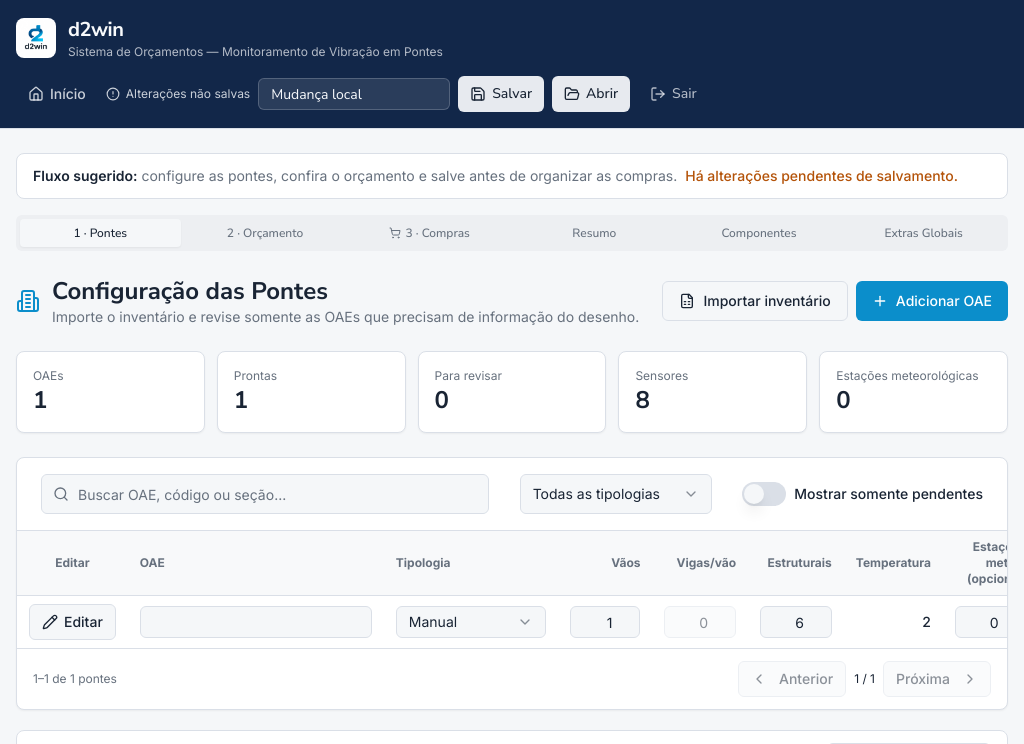
Test case: navegação segura do orçamento › impede a saída acidental e confirma a exclusão de orçamento salvo
Earlier steps of the test are not shown.
Later steps or results of the test are not shown.
Click the button "Sair". click: {"x": 673, "y": 94}
box: [638,76,709,112]
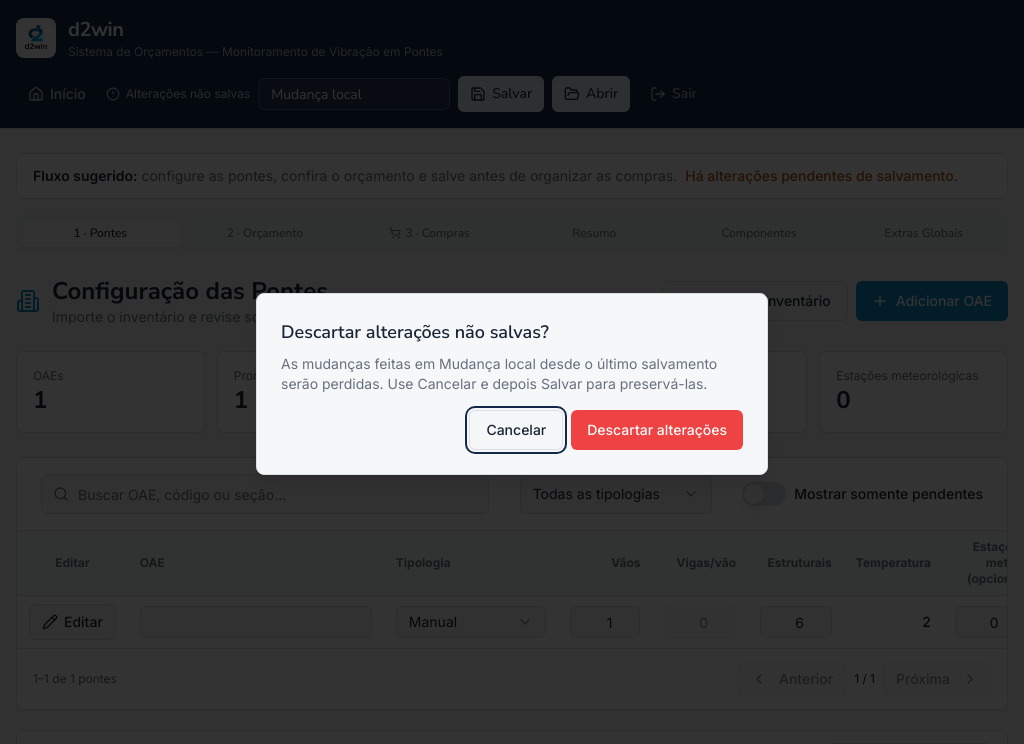
Click the button "Cancelar". click: {"x": 516, "y": 430}
box: [469,410,563,450]
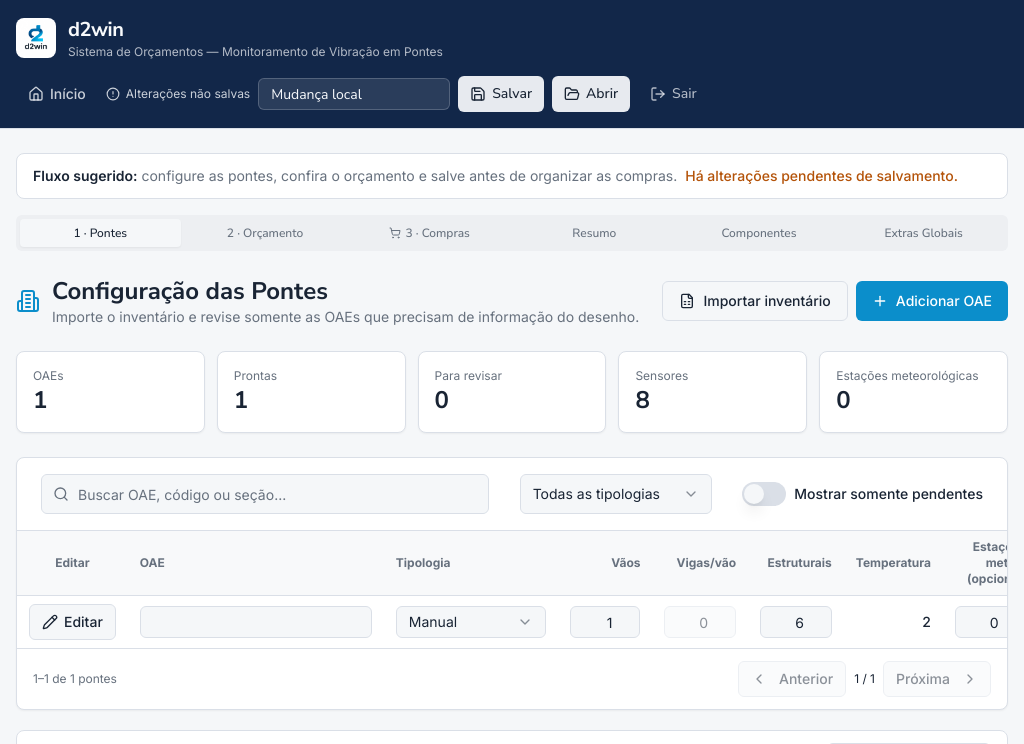
Click the button "Início". click: {"x": 57, "y": 94}
box: [16,76,98,112]
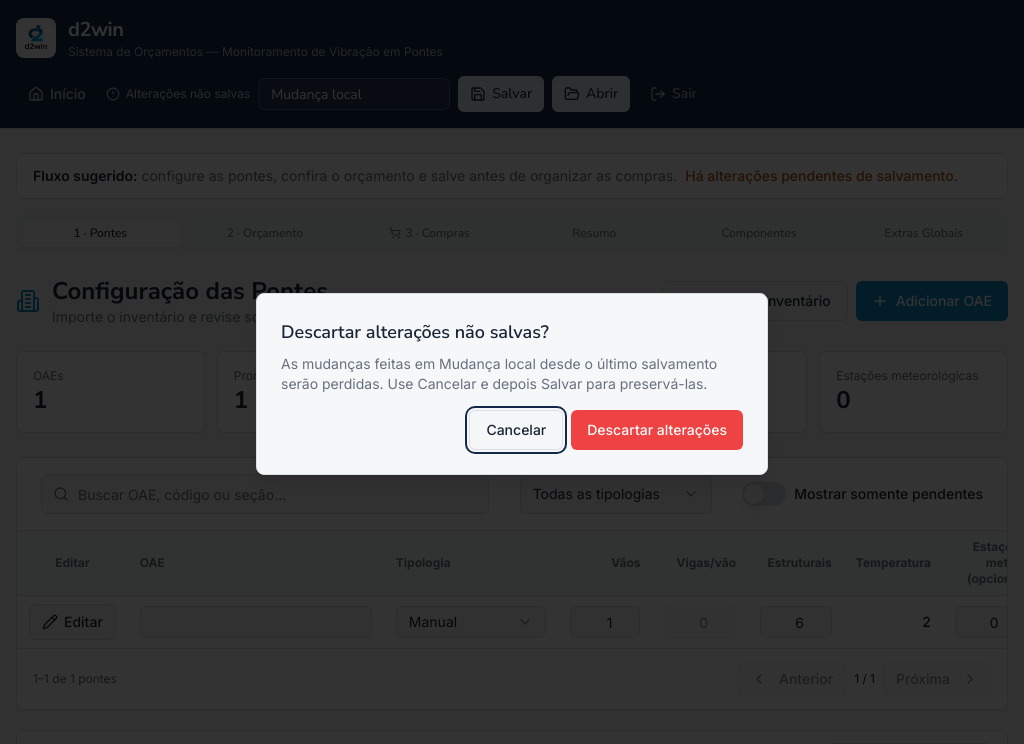
Expected: the dialog shows "Descartar alterações não salvas?", [281,320,549,344]
Click the button "Cancelar". click: {"x": 516, "y": 430}
box: [469,410,563,450]
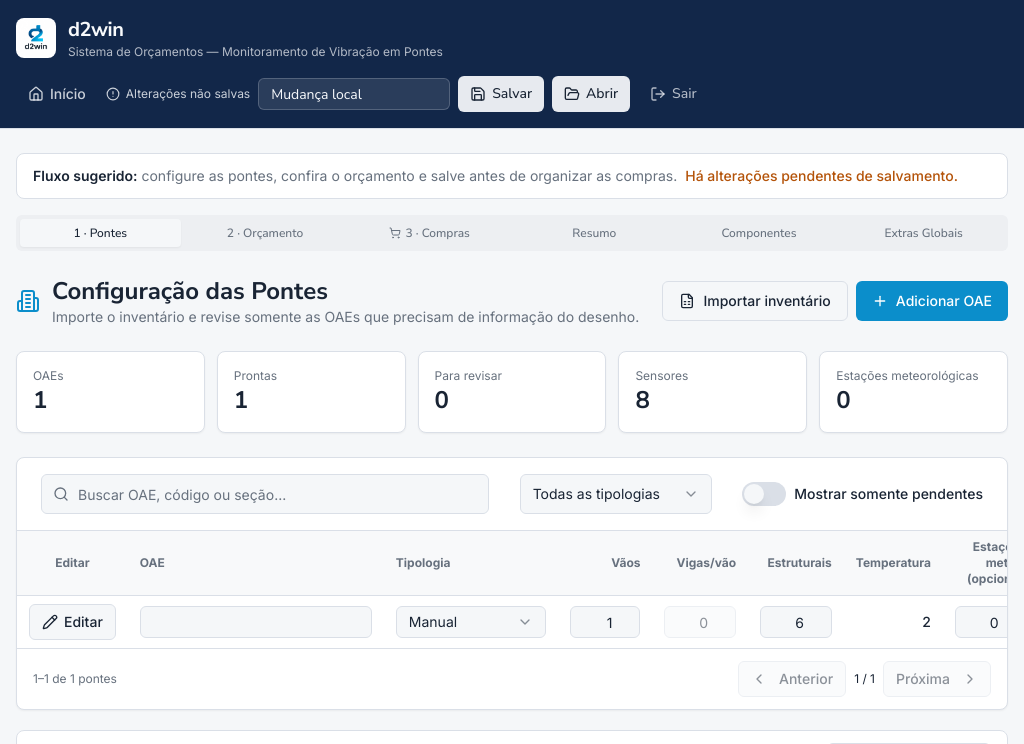
Click the button "Abrir". click: {"x": 591, "y": 94}
box: [552,76,630,112]
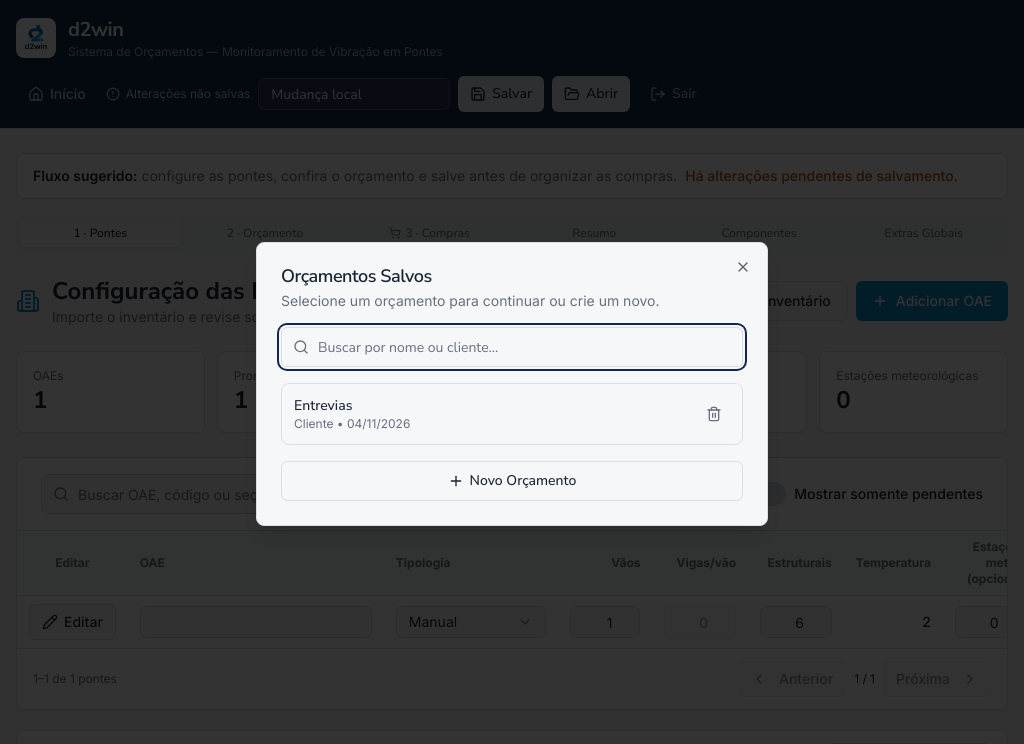
Click the button named "Excluir orçamento Entrevias". click: {"x": 714, "y": 414}
box: [698,398,730,430]
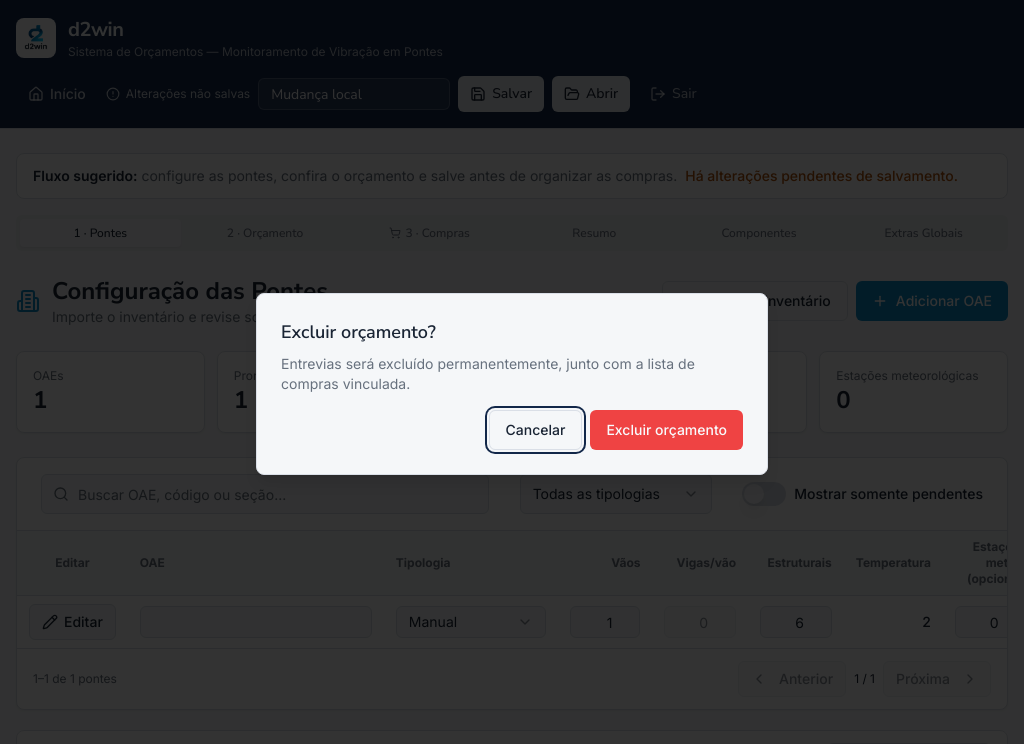
Expected: the dialog shows "Entrevias será excluído permanentemente", [256,293,768,475]
